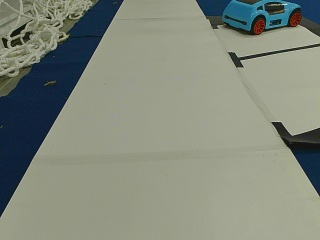car: (221, 1, 302, 34)
